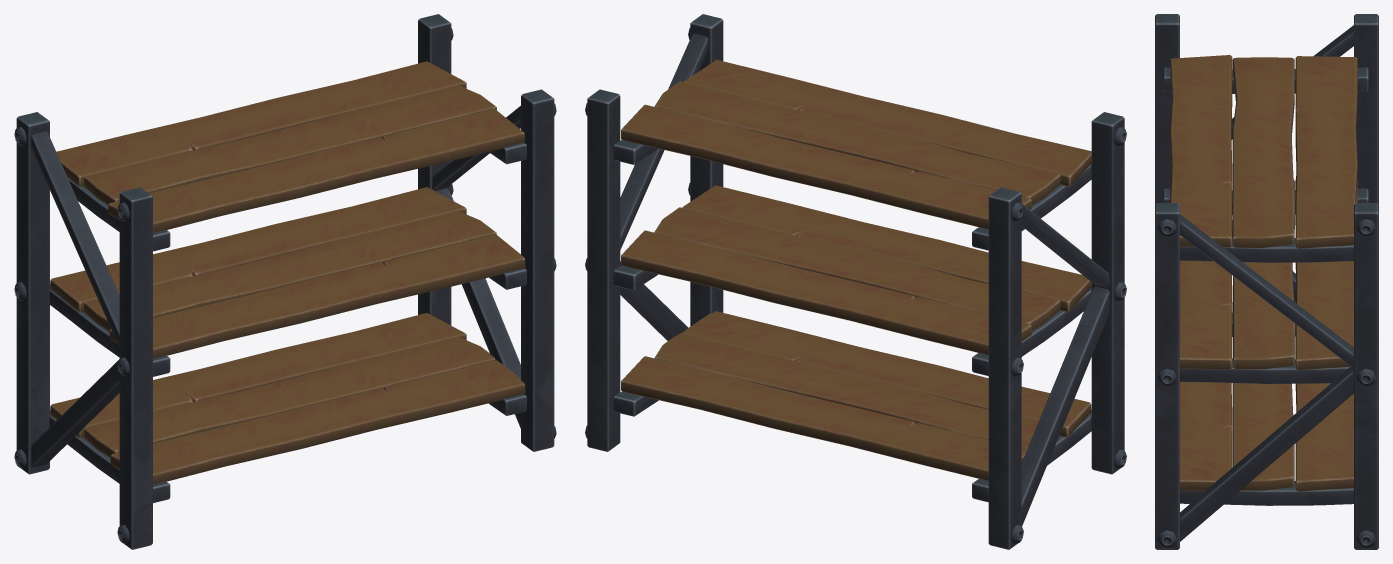
The model's file is SM_Shelf_1.FBX.
The picture shows the model from 3 angles, left to right: view 1: azimuth 30°, elevation 25°; view 2: azimuth 150°, elevation 25°; view 3: azimuth 270°, elevation 25°; orthographic projection. The views are drawn at different scales.
Parts seen in each view (by area): view 1: Object002; view 2: Object002; view 3: Object002.
Part boxes in pixels (x1,y1,x2,y2): Object002: (14,14,556,549); Object002: (585,14,1126,549); Object002: (1155,14,1378,549).
Bounding box in the file's own units: 153 × 118 × 70.87.
